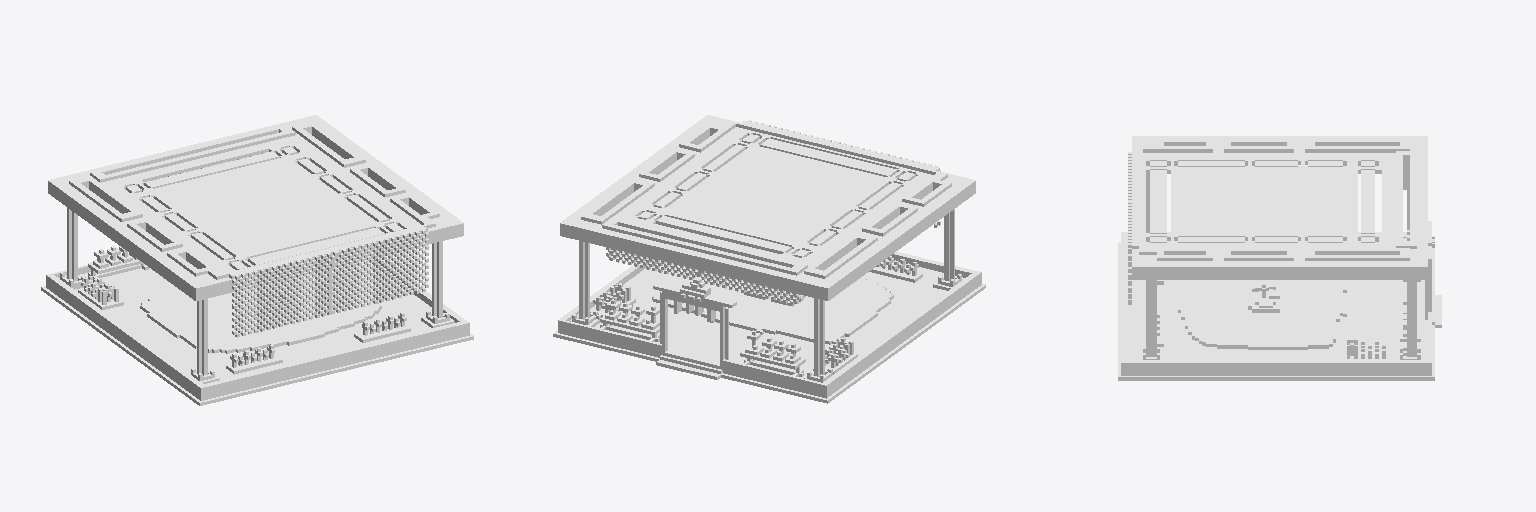
File: mapa.obj
3 views of the same model, side by side, from view 1: azimuth 30°, elevation 25°; view 2: azimuth 150°, elevation 25°; view 3: azimuth 270°, elevation 25° (orthographic).
Parts seen in each view (by area): view 1: object 1; view 2: object 1; view 3: object 1.
Boxes of the visible parts, <box> form: object 1: <box>41,115,473,405</box>; object 1: <box>553,115,985,403</box>; object 1: <box>1118,136,1441,380</box>.
Bounding box in the file's own units: 9 × 3.6 × 9.2.